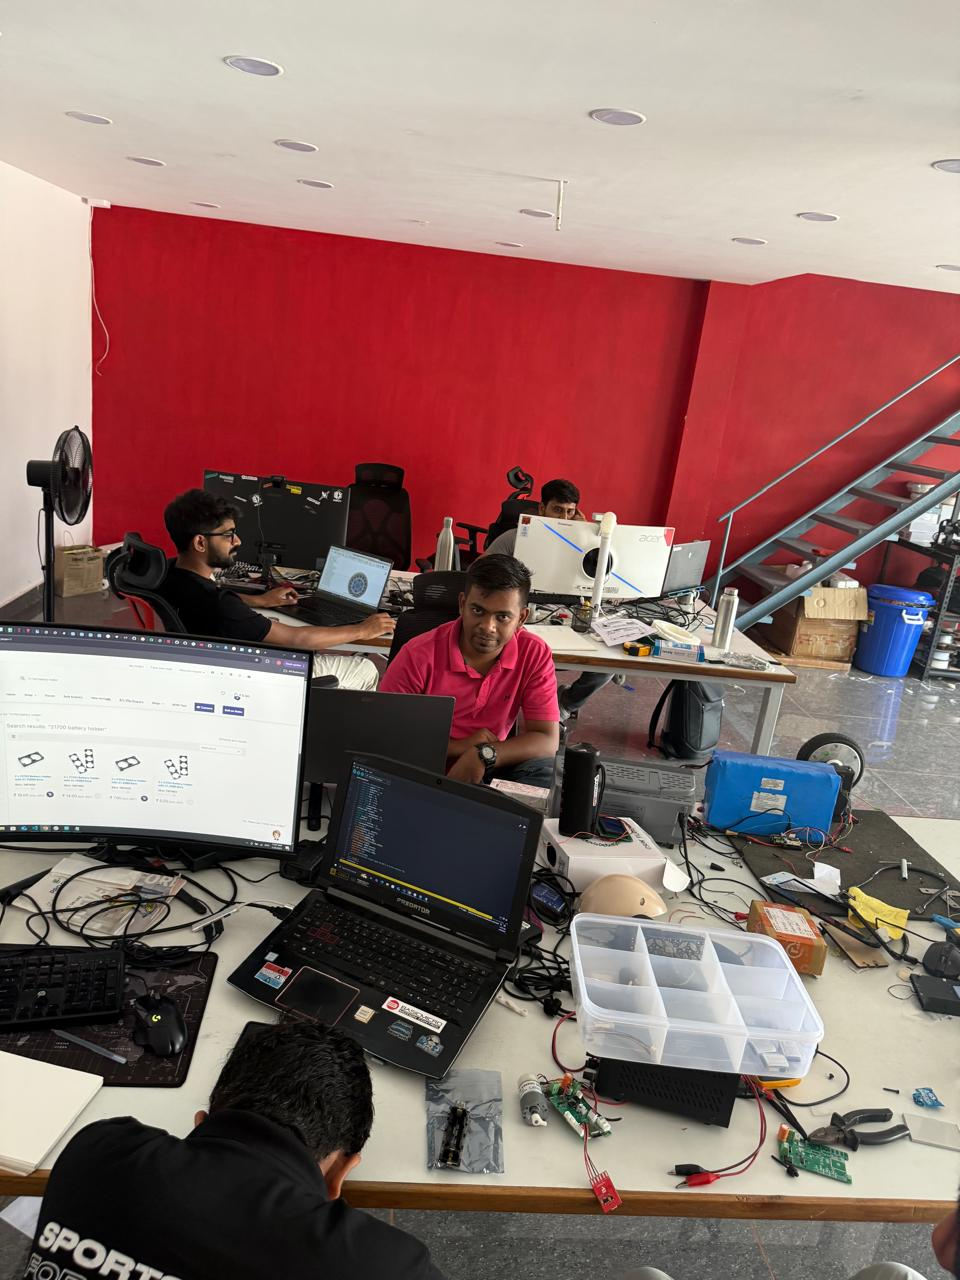bottle_on_table: (709, 573, 749, 668), (434, 499, 463, 583)
